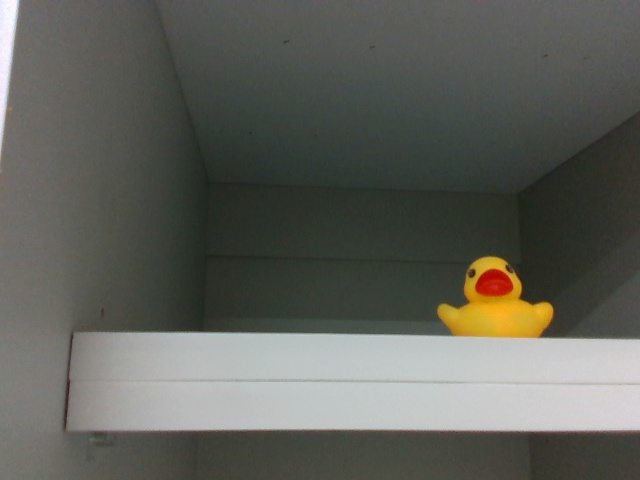duck: (436, 248, 557, 342)
